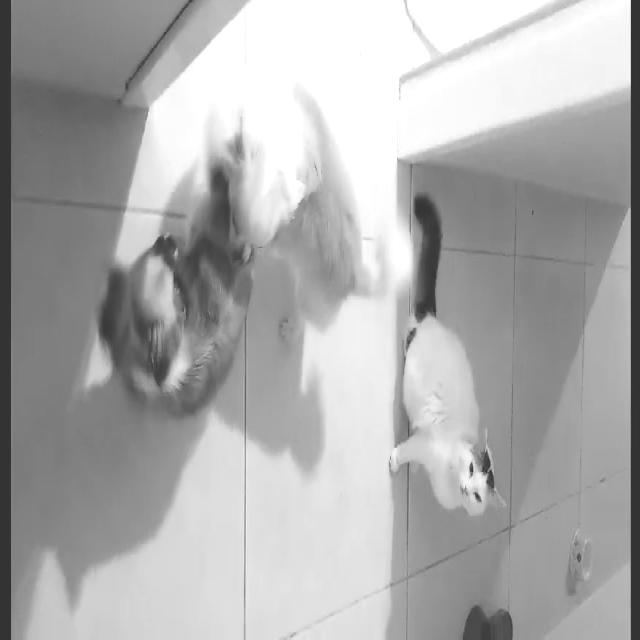Pedrita: (91, 164, 262, 458)
Simba: (342, 296, 530, 554)
Theo: (185, 92, 404, 394)
